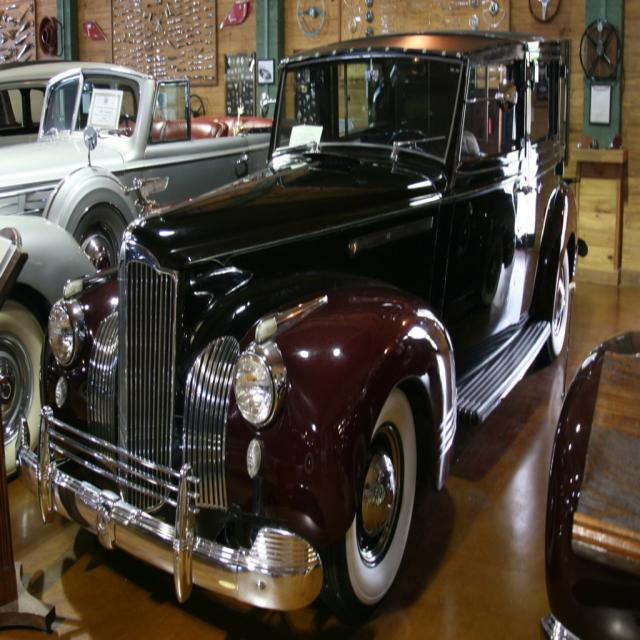car: (15, 24, 585, 616)
